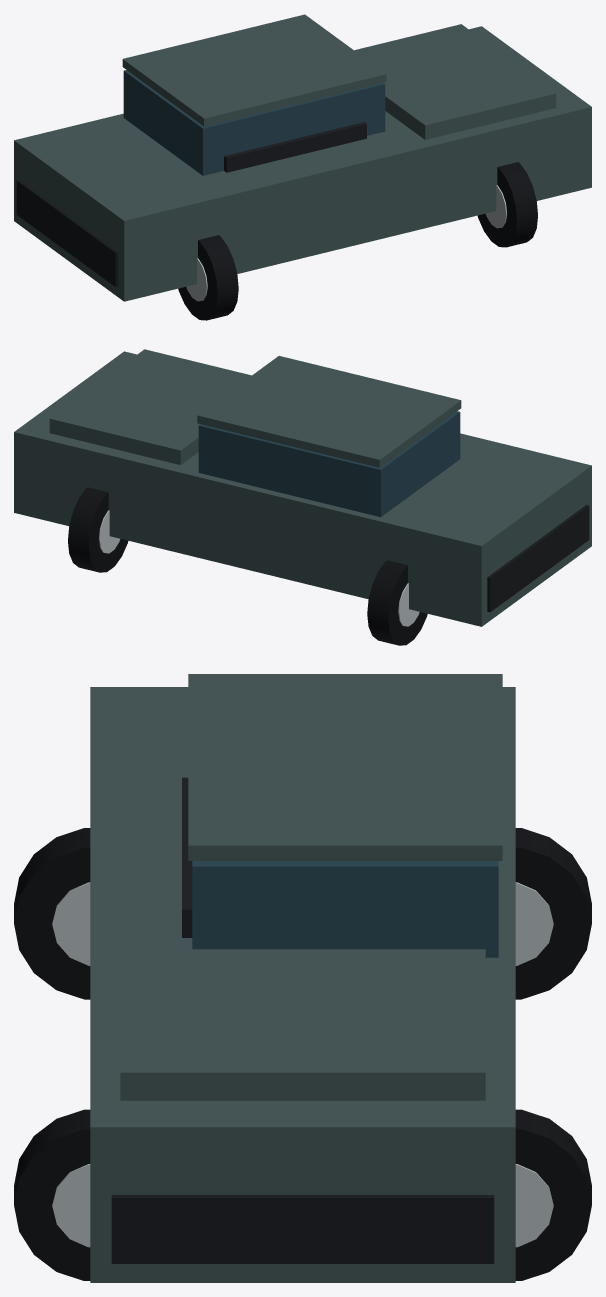
File: chevy_traverse.glb
3 renders of one model, top to bottom at view 1: azimuth 30°, elevation 25°; view 2: azimuth 150°, elevation 25°; view 3: azimuth 270°, elevation 25°, orthographic. The views are drawn at different scales.
Parts seen in each view (by area): view 1: body, roof, hood, cabin, rear_bumper, front_right_wheel, rear_right_wheel, interior; view 2: body, roof, cabin, hood, rear_bumper, front_left_wheel, rear_left_wheel; view 3: body, roof, hood, cabin, front_bumper, front_left_wheel, front_right_wheel, rear_left_wheel, rear_right_wheel, interior.
Part boxes in pixels (x1,y1,x2,y2): body: [14, 26, 591, 301]; roof: [122, 14, 386, 126]; hood: [354, 24, 556, 139]; cabin: [123, 70, 385, 175]; rear_bumper: [16, 179, 118, 286]; front_right_wheel: [477, 162, 537, 247]; rear_right_wheel: [178, 235, 238, 320]; interior: [224, 122, 366, 172]; body: [14, 351, 591, 626]; roof: [197, 356, 461, 467]; cabin: [198, 411, 460, 517]; hood: [49, 349, 251, 464]; rear_bumper: [487, 505, 589, 612]; front_left_wheel: [68, 487, 128, 572]; rear_left_wheel: [367, 560, 427, 645]; body: [90, 687, 515, 1282]; roof: [188, 674, 502, 860]; hood: [120, 949, 485, 1100]; cabin: [192, 861, 498, 957]; front_bumper: [111, 1195, 494, 1263]; front_left_wheel: [515, 1109, 591, 1280]; front_right_wheel: [14, 1109, 90, 1280]; rear_left_wheel: [515, 828, 591, 999]; rear_right_wheel: [14, 828, 90, 999]; interior: [182, 777, 192, 937].
Bounding box in the file's own units: 4.96 × 1.74 × 2.72.
